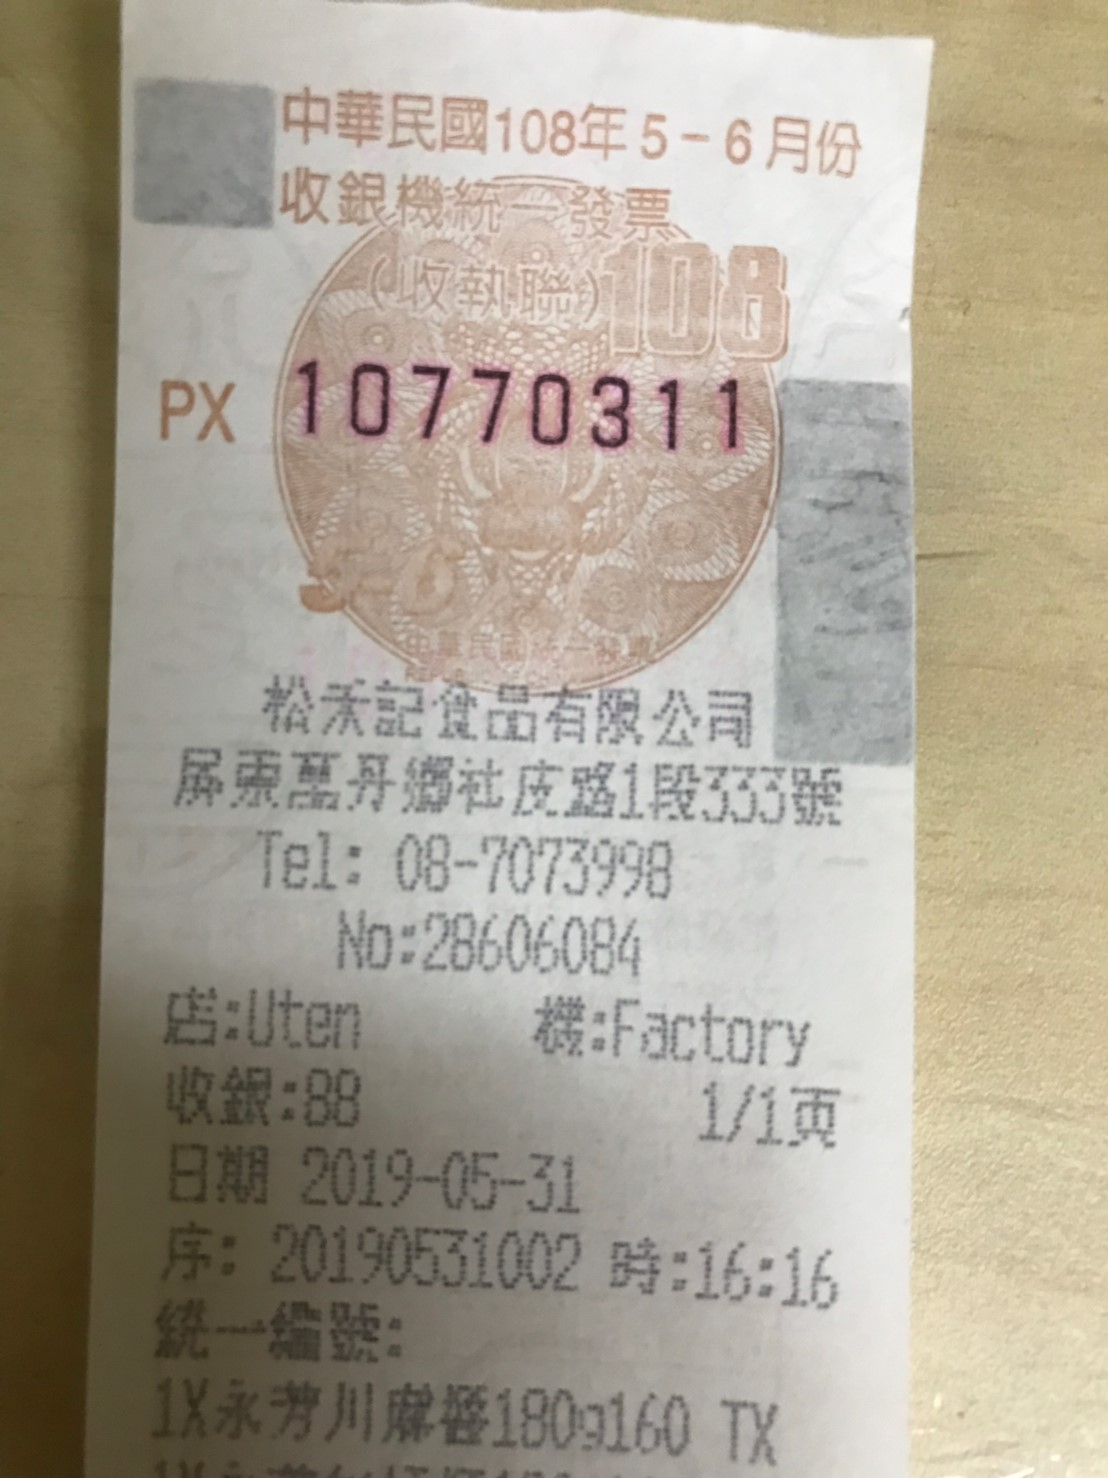Date_Old: (498, 91, 864, 178)
Number_Old: (289, 347, 759, 463)
